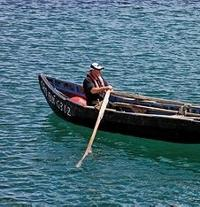person: (82, 62, 118, 111)
